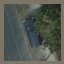car: (22, 20, 41, 48)
